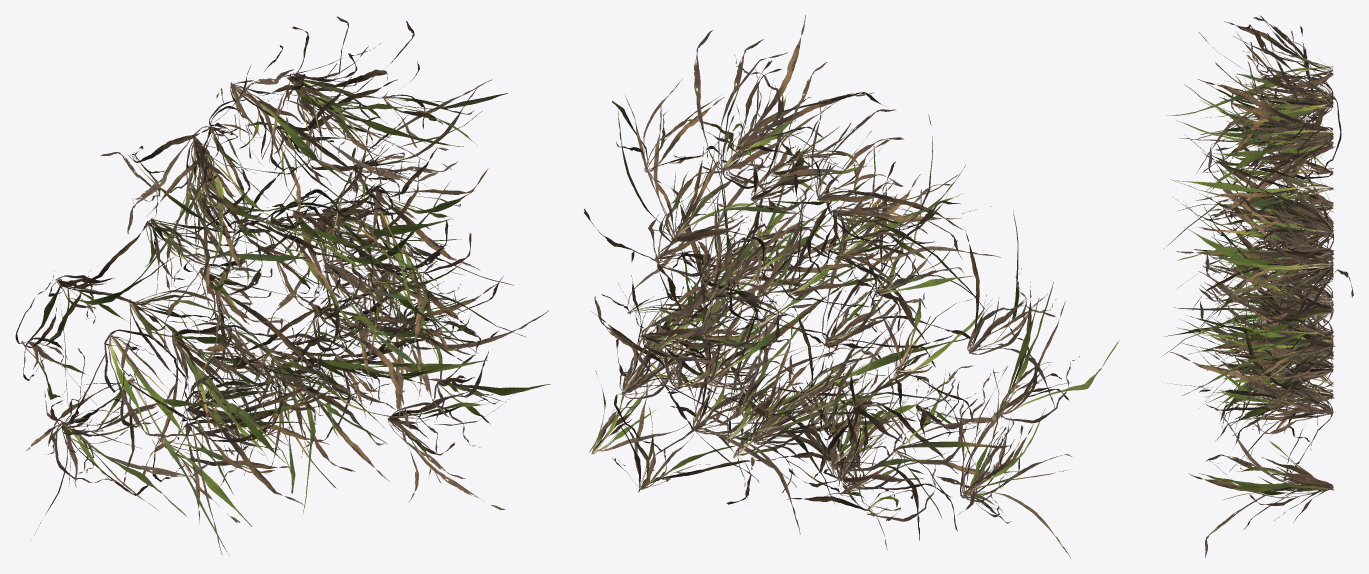
Rendered from Grass_03_Var1_LOD0.fbx.
3 renders of one model, left to right at view 1: azimuth 30°, elevation 25°; view 2: azimuth 150°, elevation 25°; view 3: azimuth 270°, elevation 25°, orthographic. The views are drawn at different scales.
Parts seen in each view (by area): view 1: Var1_LOD0; view 2: Var1_LOD0; view 3: Var1_LOD0.
Part boxes in pixels (x1,y1,x2,y2): Var1_LOD0: (15,16,550,555); Var1_LOD0: (584,15,1118,558); Var1_LOD0: (1160,15,1353,557).
Size of the model in its own units: 67.57 by 64.3 by 25.46.
